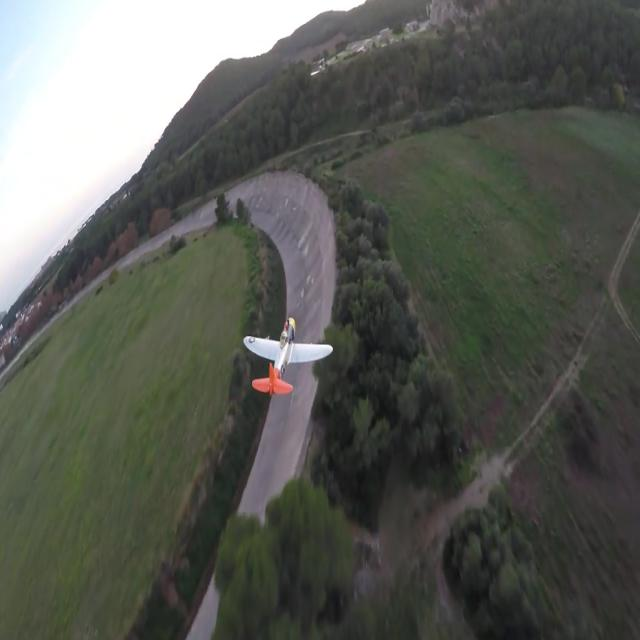iha: (275, 348, 301, 365)
